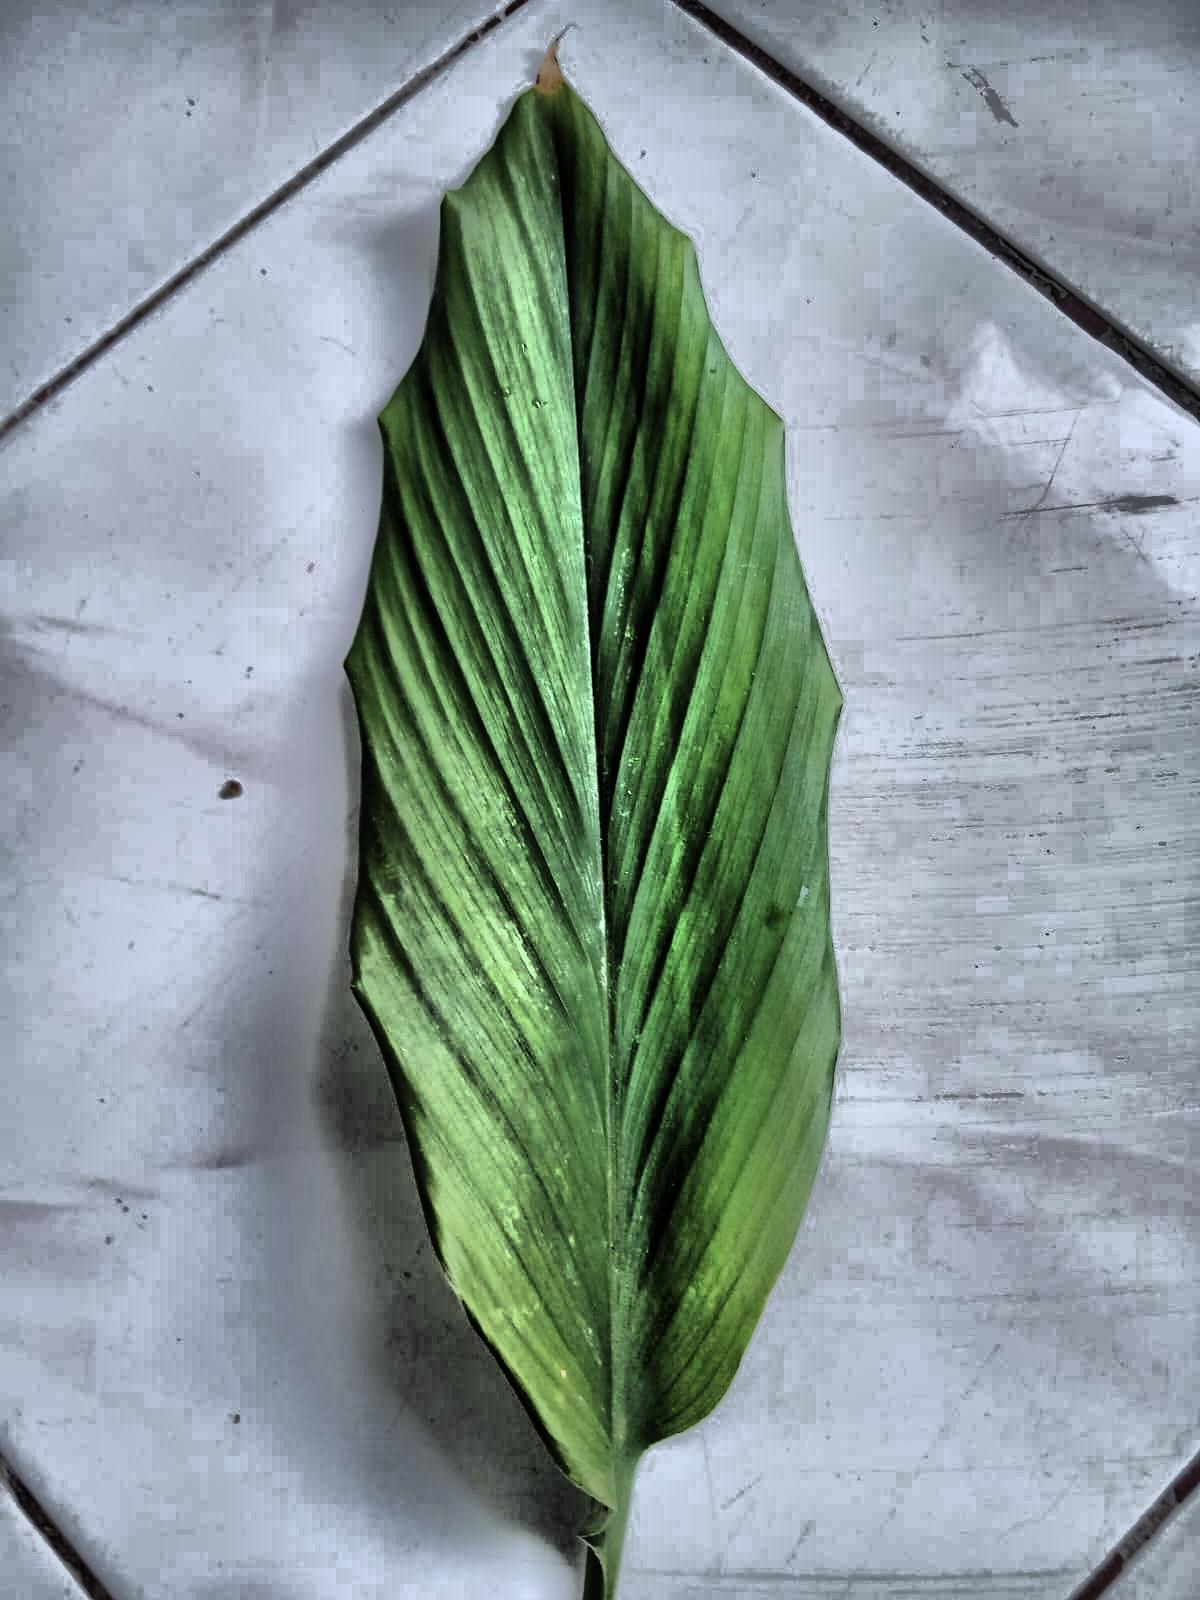daun kunyit: (345, 53, 841, 1599)
